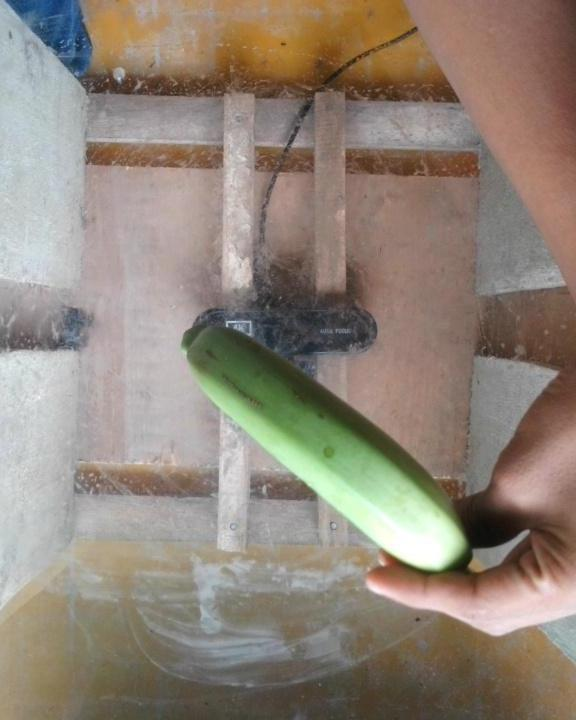CLASS B: (174, 317, 483, 584)
Class A: (217, 368, 272, 412), (198, 338, 226, 366), (291, 384, 315, 412)
